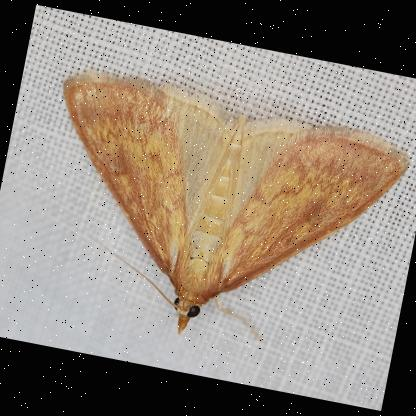Asian Corn Borer Moth: (17, 59, 416, 375)
